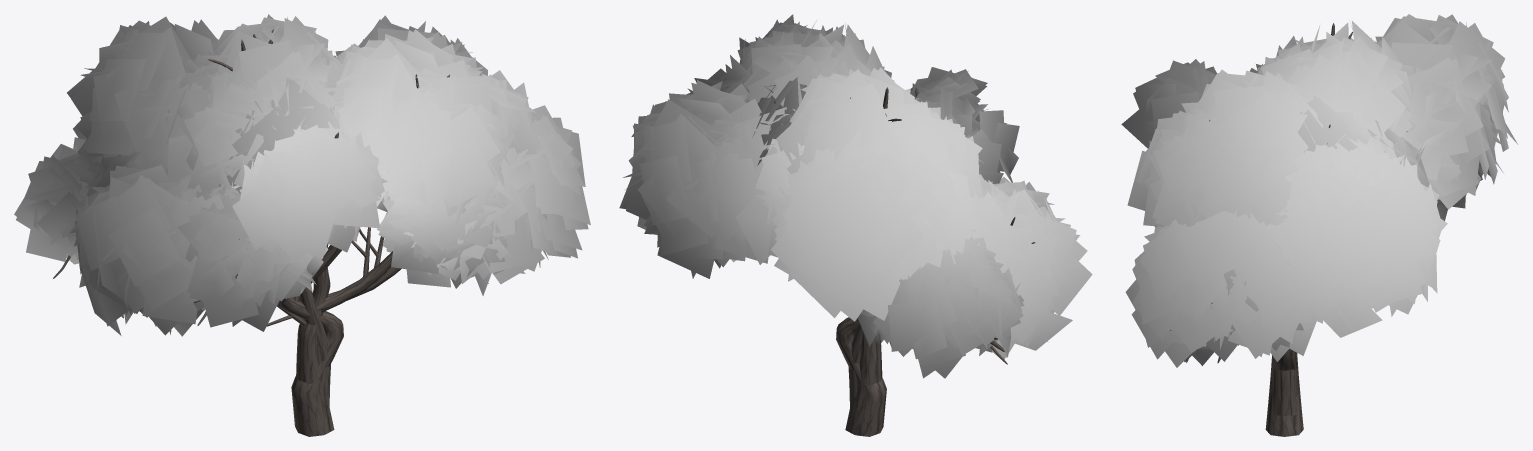
File: trees-low-poly.fbx
3 views of the same model, side by side, from view 1: azimuth 30°, elevation 25°; view 2: azimuth 150°, elevation 25°; view 3: azimuth 270°, elevation 25° (orthographic). The views are drawn at different scales.
Visible parts, largest first — view 1: MapleTree_5, MapleTree_3, MapleTree_2, MapleTree_1; view 2: MapleTree_3, MapleTree_2, MapleTree_5, MapleTree_1; view 3: MapleTree_3, MapleTree_5, MapleTree_2, MapleTree_1.
Boxes of the visible parts, x1=… form: MapleTree_5: x1=154, y1=14, x2=538, y2=359; MapleTree_3: x1=67, y1=15, x2=590, y2=434; MapleTree_2: x1=14, y1=43, x2=388, y2=436; MapleTree_1: x1=219, y1=78, x2=548, y2=406; MapleTree_3: x1=619, y1=64, x2=1092, y2=434; MapleTree_2: x1=752, y1=67, x2=1024, y2=436; MapleTree_5: x1=721, y1=14, x2=1055, y2=362; MapleTree_1: x1=750, y1=101, x2=952, y2=407; MapleTree_3: x1=1125, y1=14, x2=1517, y2=436; MapleTree_5: x1=1127, y1=20, x2=1428, y2=227; MapleTree_2: x1=1121, y1=59, x2=1490, y2=427; MapleTree_1: x1=1184, y1=58, x2=1429, y2=415.
Size of the model in its own units: 898 by 728 by 668.
